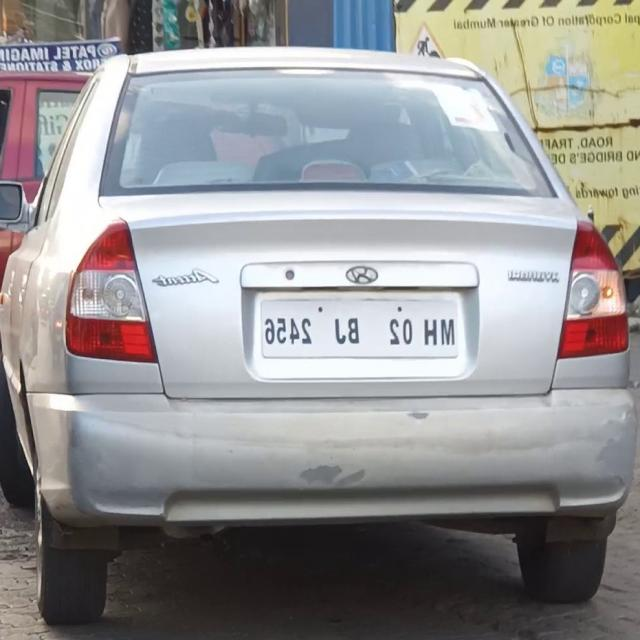license_plate: (256, 292, 465, 368)
